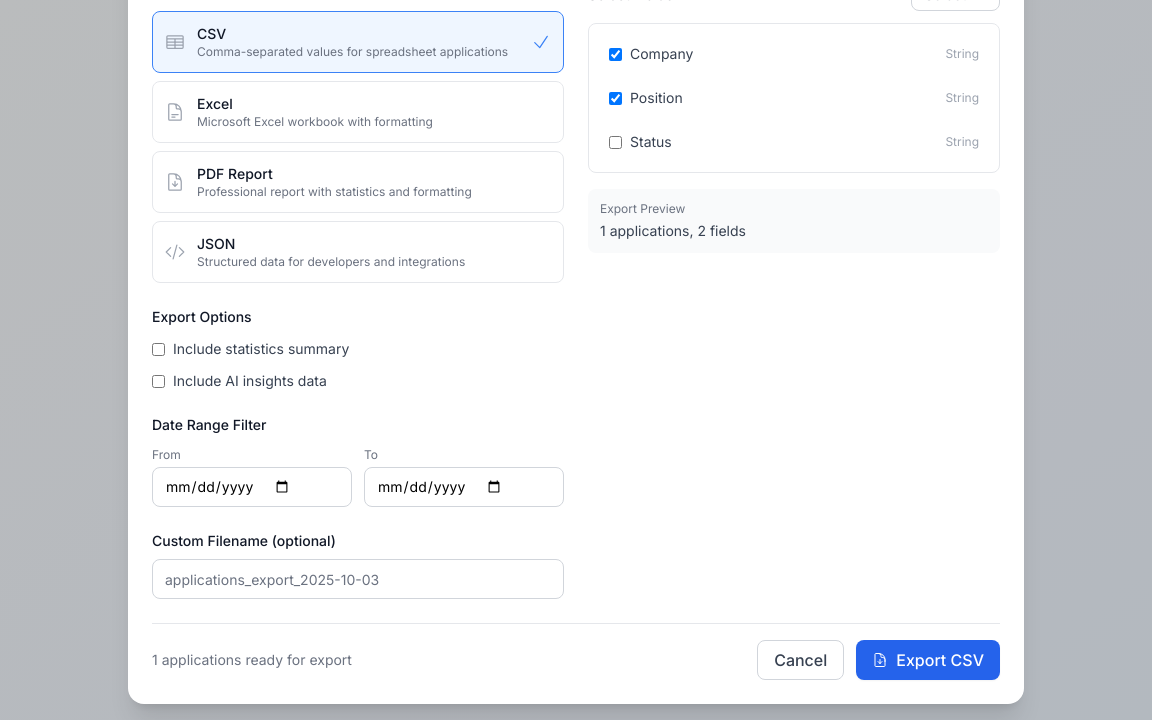
ExportModal › shows loading state during export
(page scrolled)
Click the button "Export CSV" at (928, 660), box [856,640,1000,680]
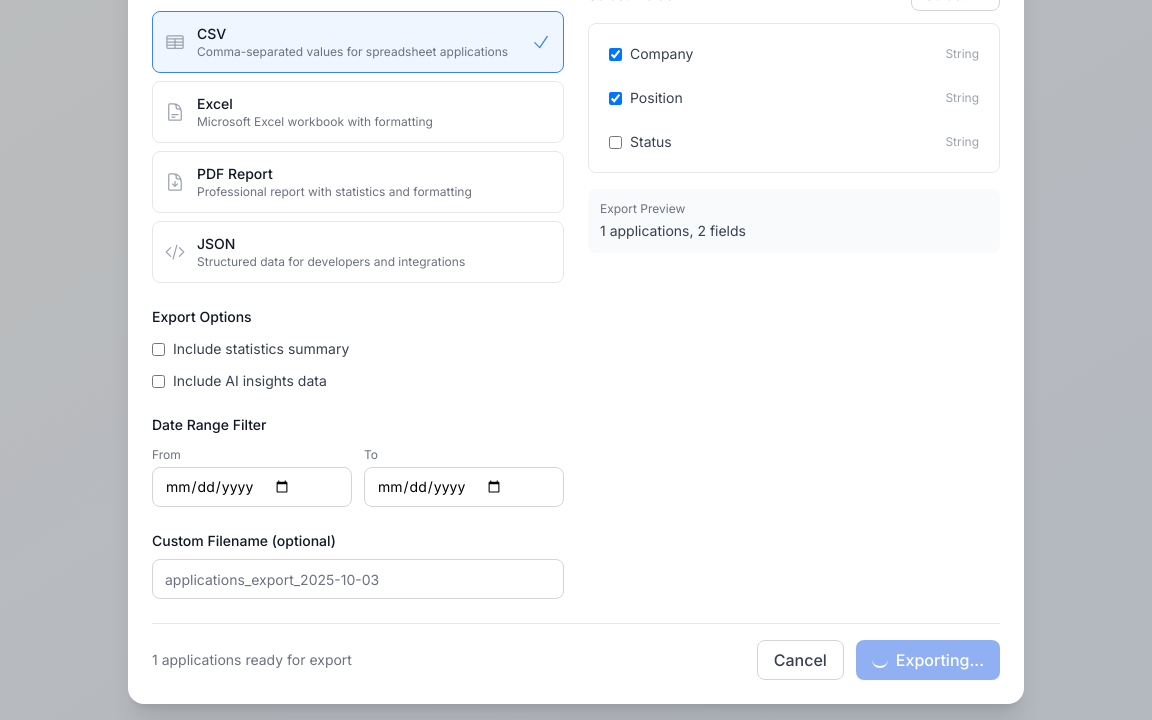
Result: the text "Exporting..." is shown at [872,648,984,672]
Result: the button "Export CSV" is disabled at [856,640,1000,680]
